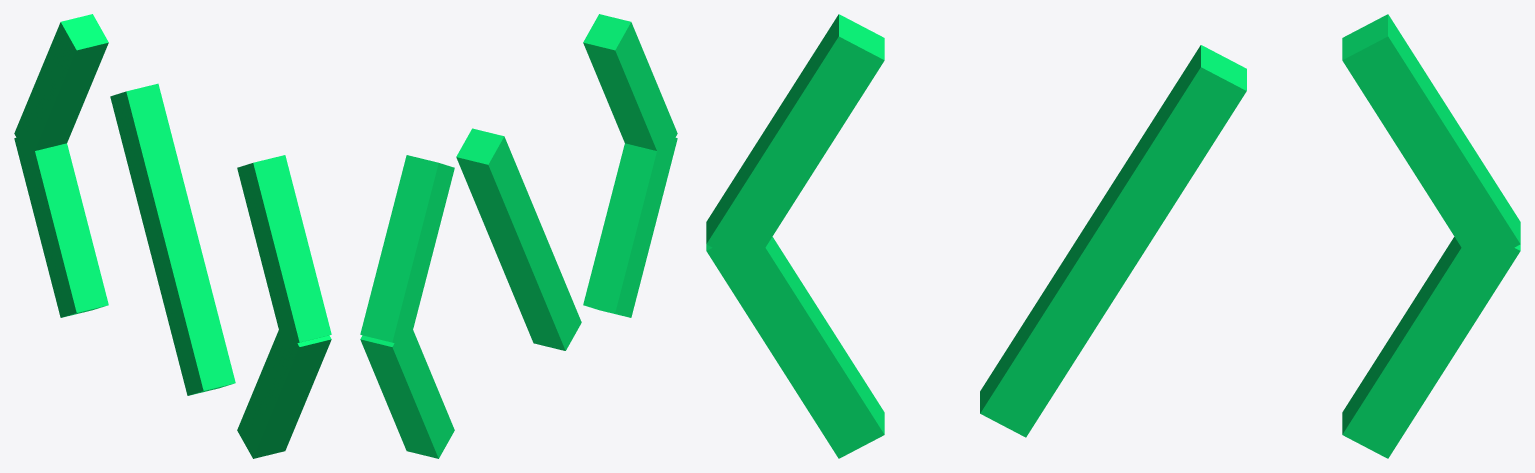
The model's file is code.dae.
The picture shows the model from 3 angles, left to right: view 1: azimuth 30°, elevation 25°; view 2: azimuth 150°, elevation 25°; view 3: azimuth 270°, elevation 25°; orthographic projection. The views are drawn at different scales.
Visible parts, largest first — view 1: Cube.004; view 2: Cube.004; view 3: Cube.004.
Boxes of the visible parts, box(x1,y1,x2,y2) form: Cube.004: box(14, 14, 331, 458); Cube.004: box(360, 14, 677, 458); Cube.004: box(706, 14, 1520, 458).
Size of the model in its own units: 0.24 by 3.69 by 2.11.
